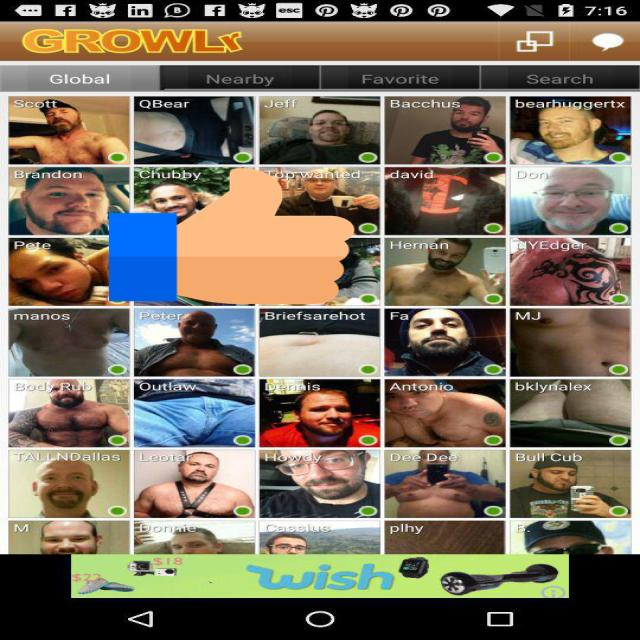privacy zuckering: (109, 165, 354, 307)
